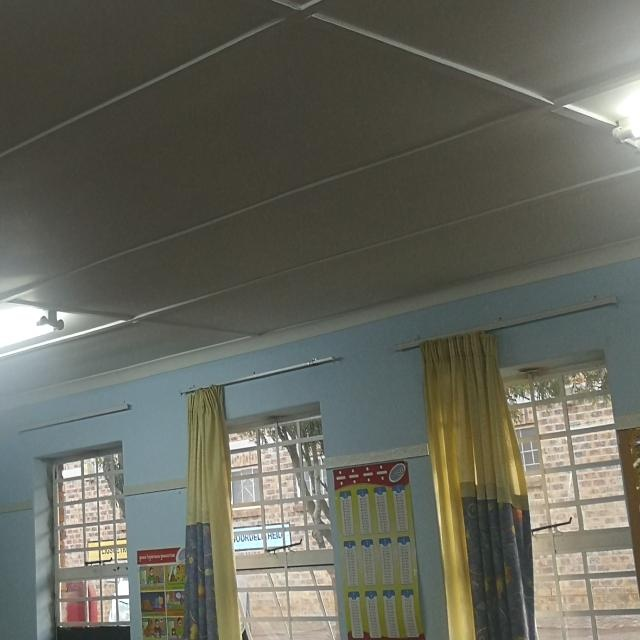fluorescent tube: (0, 278, 76, 407), (558, 78, 640, 166)
